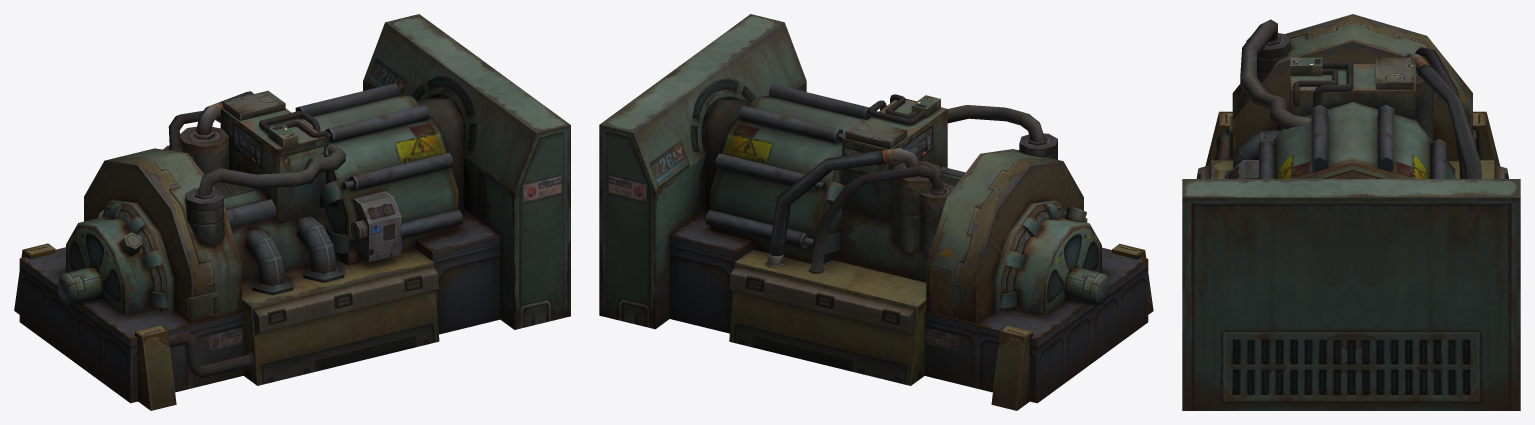
Rendered from mf_elctricgenerator005.FBX.
The picture shows the model from 3 angles, left to right: view 1: azimuth 30°, elevation 25°; view 2: azimuth 150°, elevation 25°; view 3: azimuth 270°, elevation 25°; orthographic projection. The views are drawn at different scales.
Parts seen in each view (by area): view 1: mf_elctricgenerator005; view 2: mf_elctricgenerator005; view 3: mf_elctricgenerator005.
Boxes of the visible parts, box(x1,y1,x2,y2) form: mf_elctricgenerator005: box(14, 14, 570, 410); mf_elctricgenerator005: box(599, 14, 1153, 410); mf_elctricgenerator005: box(1182, 14, 1520, 410).
Size of the model in its own units: 4.54 by 2.02 by 2.77.
1 material, 1 textured.
